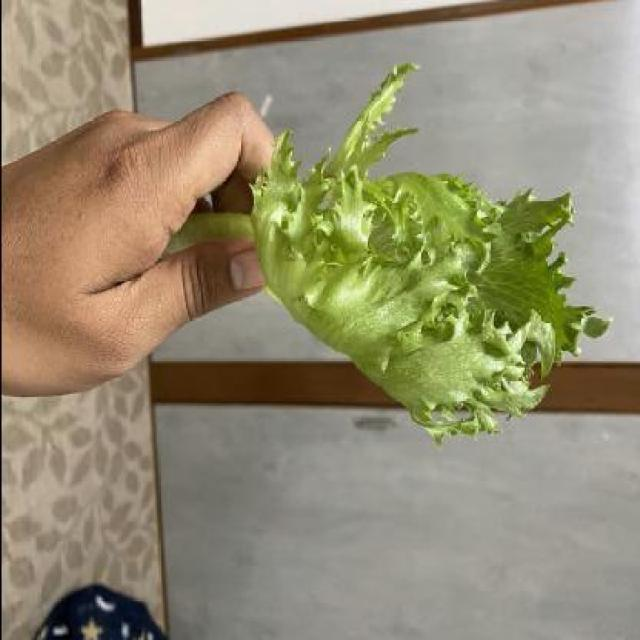Lettuce: (231, 53, 608, 446)
